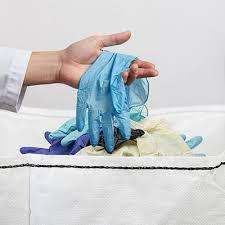Glove: (76, 51, 148, 152), (20, 132, 89, 154), (49, 118, 87, 145), (181, 134, 202, 148)
